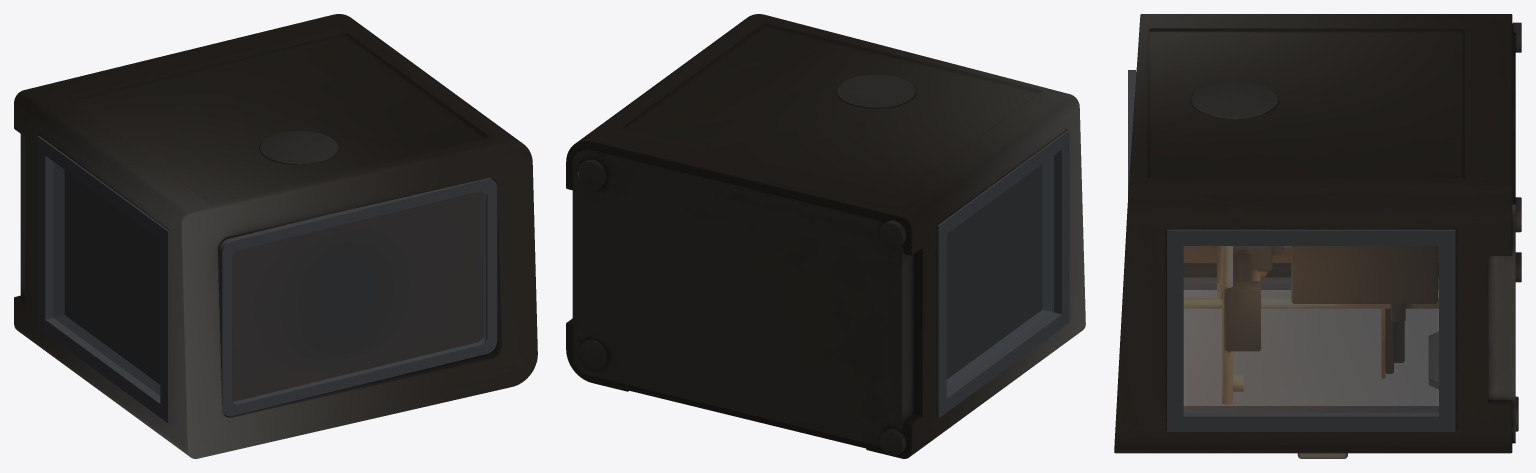
The model's file is deltrol_p2s_explorer_v9.glb.
The picture shows the model from 3 angles, left to right: view 1: azimuth 30°, elevation 25°; view 2: azimuth 150°, elevation 25°; view 3: azimuth 270°, elevation 25°; orthographic projection. The views are drawn at different scales.
Visible parts, largest first — view 1: unibody_shell, top_roof_glass, interior_ceiling_liner, left_glass_window, interior_left_back_baffle, left_window_gasket, top_rim_outer, rear_exhaust_shroud, chassis_recessed_plinth; view 2: chassis_recessed_plinth, unibody_shell, left_glass_window, interior_left_back_baffle, left_window_gasket, rear_exhaust_shroud, chassis_foot_2, chassis_foot_1, chassis_foot_3, chassis_foot_0; view 3: unibody_shell, right_glass_sheen, right_glass_window, front_glass_door, right_window_gasket, interior_rear_electronics_box, chassis_recessed_plinth, x_guide_front, x_gantry_crossbeam, rear_exhaust_shroud, bed_heater_block, door_left_stile (+4 smaller).
Boxes of the visible parts, x1,y1,x2,y2 form: unibody_shell: (14,14,537,458); top_roof_glass: (232,191,486,403); interior_ceiling_liner: (218,191,483,401); left_glass_window: (53,162,160,395); interior_left_back_baffle: (64,170,160,384); left_window_gasket: (37,136,169,423); top_rim_outer: (218,178,497,416); rear_exhaust_shroud: (259,131,338,164); chassis_recessed_plinth: (20,134,24,296); chassis_recessed_plinth: (572,149,914,446); unibody_shell: (566,14,1085,458); left_glass_window: (946,156,1053,390); interior_left_back_baffle: (946,164,1042,378); left_window_gasket: (937,130,1069,417); rear_exhaust_shroud: (837,74,916,108); chassis_foot_2: (577,159,607,190); chassis_foot_1: (579,339,607,369); chassis_foot_3: (879,220,906,247); chassis_foot_0: (879,428,906,455); unibody_shell: (1114,14,1512,453); right_glass_sheen: (1184,246,1438,412); right_glass_window: (1184,246,1438,411); front_glass_door: (1184,285,1438,405); right_window_gasket: (1167,229,1455,431); interior_rear_electronics_box: (1291,246,1437,303); chassis_recessed_plinth: (1488,32,1515,443); x_guide_front: (1184,246,1438,404); x_gantry_crossbeam: (1225,250,1260,350); rear_exhaust_shroud: (1191,81,1278,118); bed_heater_block: (1386,304,1405,373); door_left_stile: (1184,277,1438,289).
Size of the model in its own units: 0.426 by 0.2949 by 0.3893.
Materials: 11 (5 with a texture image).
